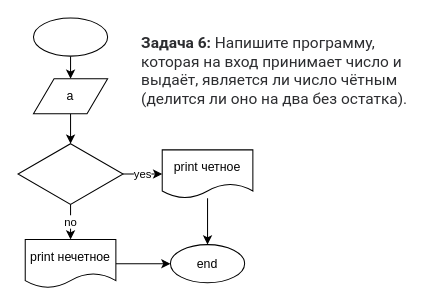
The diagram is 447 pixels wide and 306 high, and some of its shapes have lost their labels. Here are the shapes that lost their labels. From the top down, the centre of each, then its label:
At point 70,36: "start".
At point 70,173: "if a % 2 ==0".
